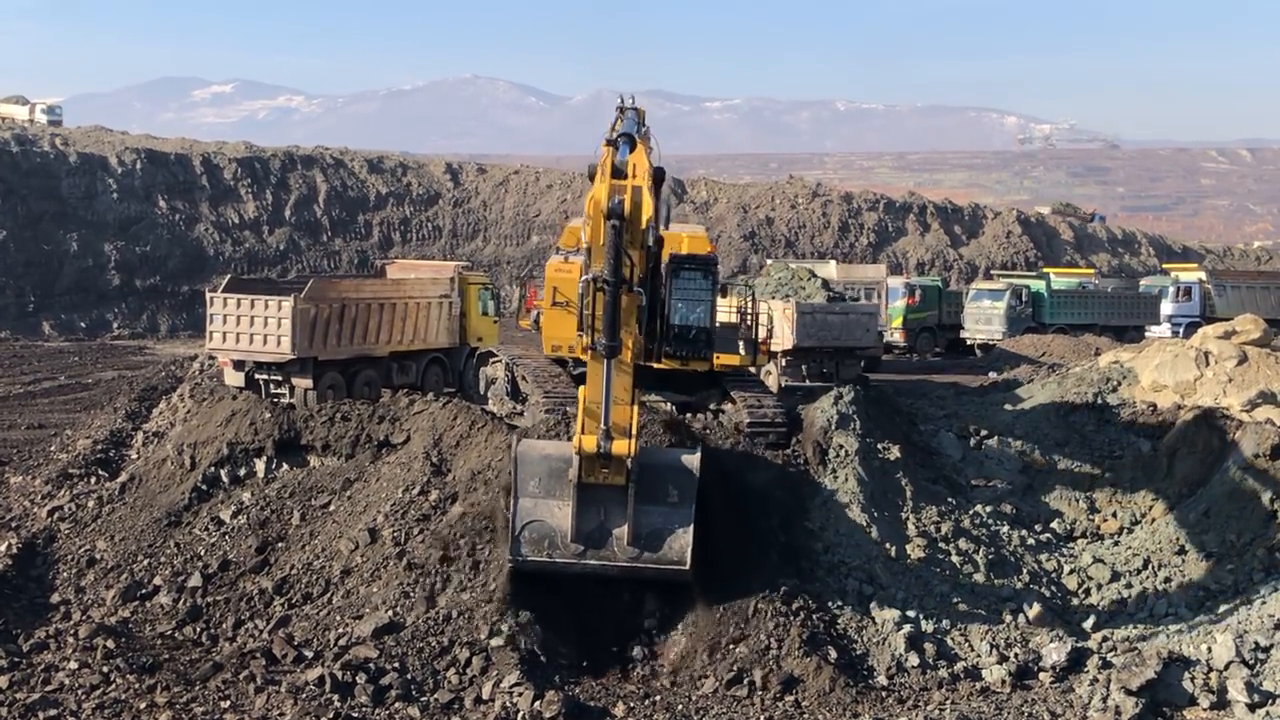full: (493, 421, 709, 585)
